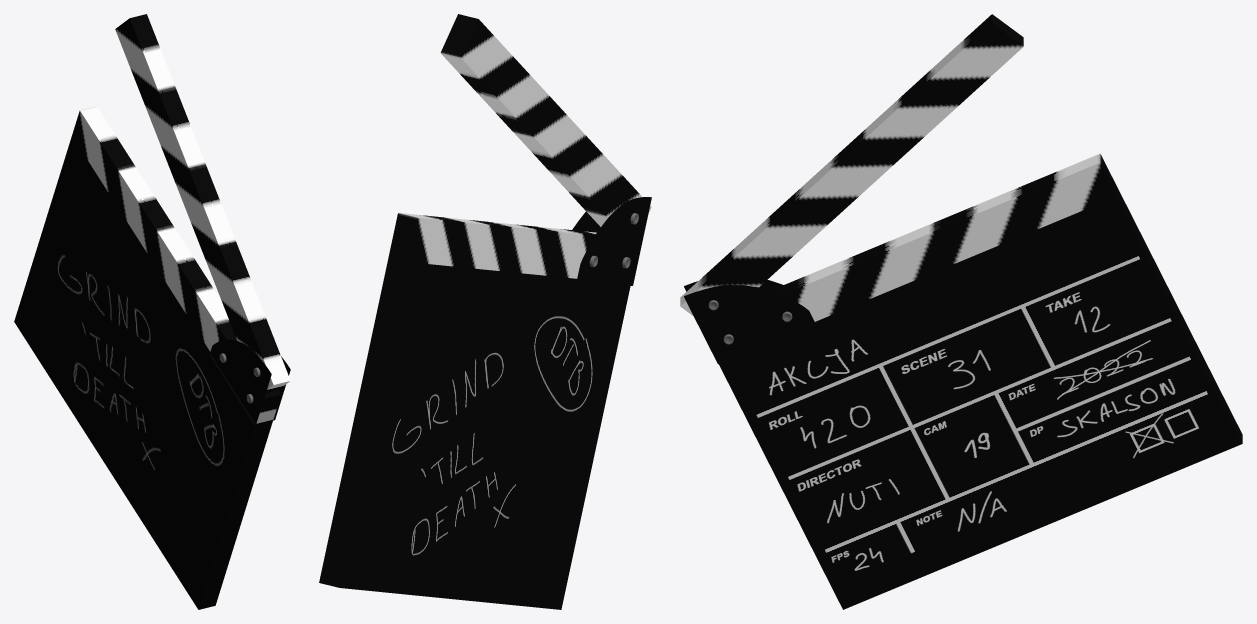
Rendered from movie_clipper.glb.
3 renders of one model, left to right at view 1: azimuth 30°, elevation 25°; view 2: azimuth 150°, elevation 25°; view 3: azimuth 270°, elevation 25°, orthographic. The views are drawn at different scales.
Parts seen in each view (by area): view 1: Cube, Cube.002, Cube.001, Plane; view 2: Cube, Cube.002, Cube.001, Plane; view 3: Cube, Cube.002, Cube.001, Plane.
Part boxes in pixels (<box>): Cube: <box>14,136,272,609</box>; Cube.002: <box>115,14,290,392</box>; Cube.001: <box>72,106,280,423</box>; Plane: <box>209,339,290,424</box>; Cube: <box>319,257,630,609</box>; Cube.002: <box>440,14,651,226</box>; Cube.001: <box>388,213,596,278</box>; Plane: <box>572,197,651,285</box>; Cube: <box>719,187,1242,609</box>; Cube.002: <box>680,14,1023,315</box>; Cube.001: <box>771,153,1117,321</box>; Plane: <box>684,280,815,364</box>.
Size of the model in its own units: 0.2961 by 6.87 by 5.97.
Materials: 6 (4 with a texture image).
